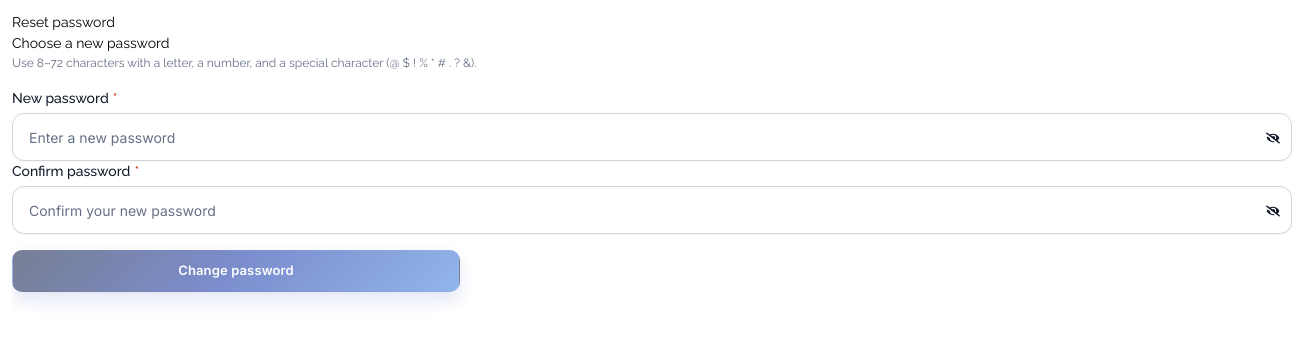
Test: ResetPasswordPage › blocks submit when the password is too weak
The image size is (1304, 346).
Type "weak" into the password field labelled "New password" at {"x": 652, "y": 137}, box [12,113,1292,161]
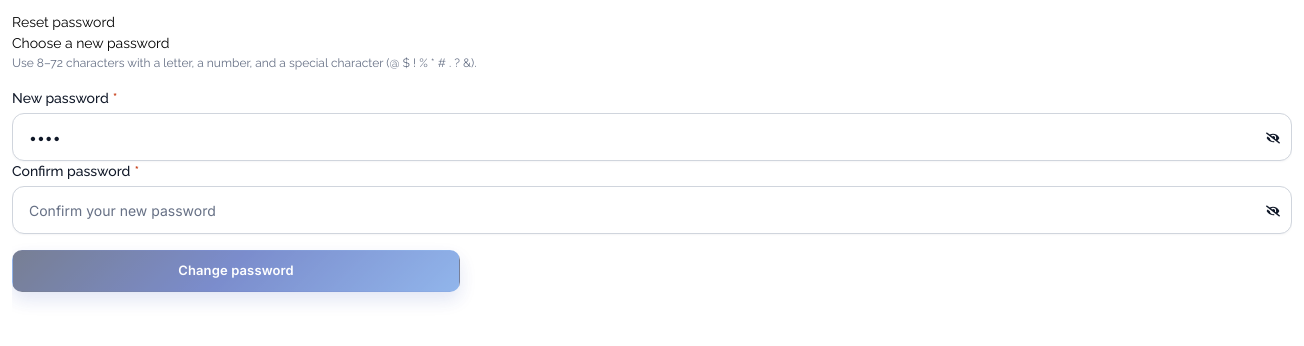
Type "weak" into the password field labelled "Confirm password" at {"x": 652, "y": 210}, box [12,186,1292,234]
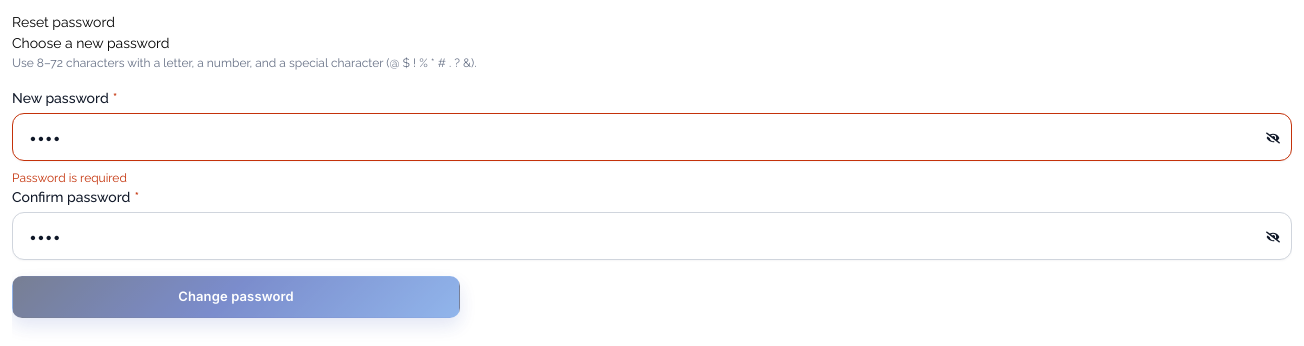
Click the button "Change password" at {"x": 236, "y": 297}, box [12,276,460,318]
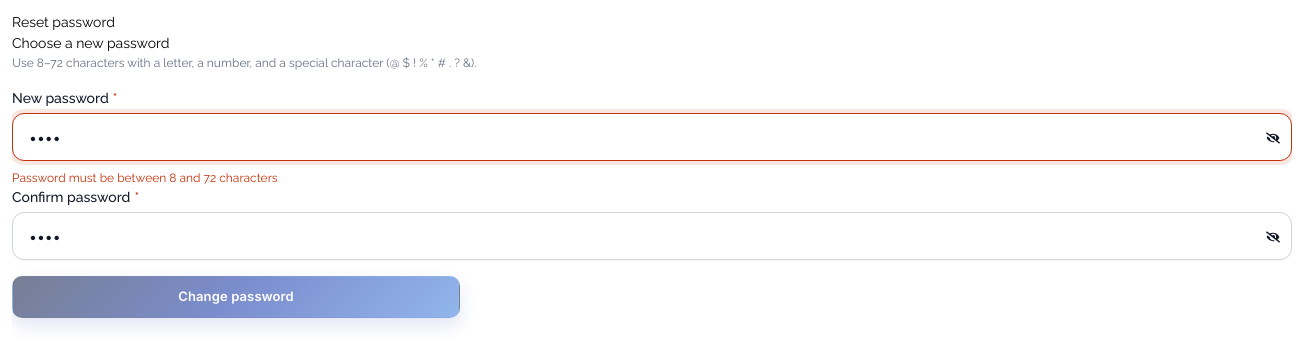
Expected: the text "Password must be between 8 and 72 characters" is shown, [12,171,278,185]
